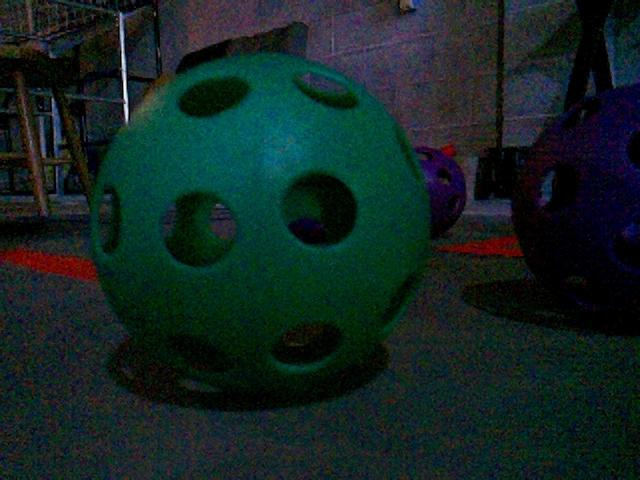Green: (89, 54, 435, 397)
Purple: (514, 81, 640, 322), (413, 145, 468, 239)
